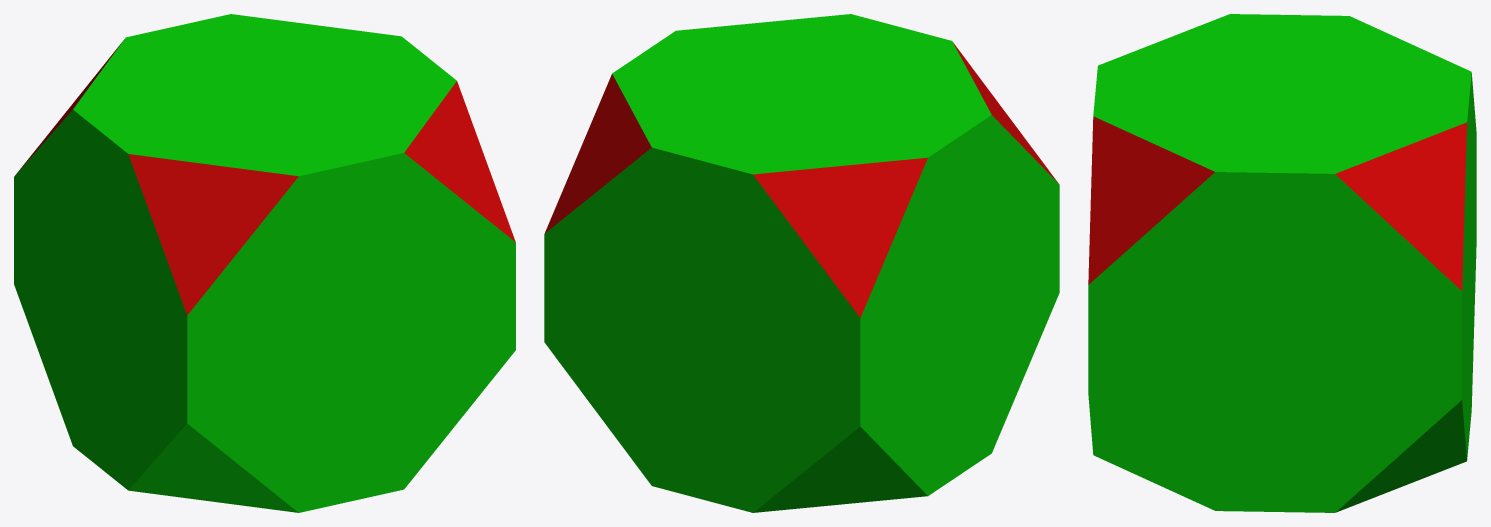
Rendered from anim_cube_000023.obj.
The picture shows the model from 3 angles, left to right: view 1: azimuth 30°, elevation 25°; view 2: azimuth 150°, elevation 25°; view 3: azimuth 270°, elevation 25°; orthographic projection.
Visible parts, largest first — view 1: Cube_Cube.002_Material.002, Cube_Cube.002_Material.001; view 2: Cube_Cube.002_Material.002, Cube_Cube.002_Material.001; view 3: Cube_Cube.002_Material.002, Cube_Cube.002_Material.001.
Part boxes in pixels (x1,y1,x2,y2): Cube_Cube.002_Material.002: (14,14,515,512); Cube_Cube.002_Material.001: (16,40,515,315); Cube_Cube.002_Material.002: (544,14,1059,512); Cube_Cube.002_Material.001: (544,42,1058,317); Cube_Cube.002_Material.002: (1088,14,1476,512); Cube_Cube.002_Material.001: (1088,116,1466,290).
Size of the model in its own units: 3.21 by 3.09 by 3.21.
